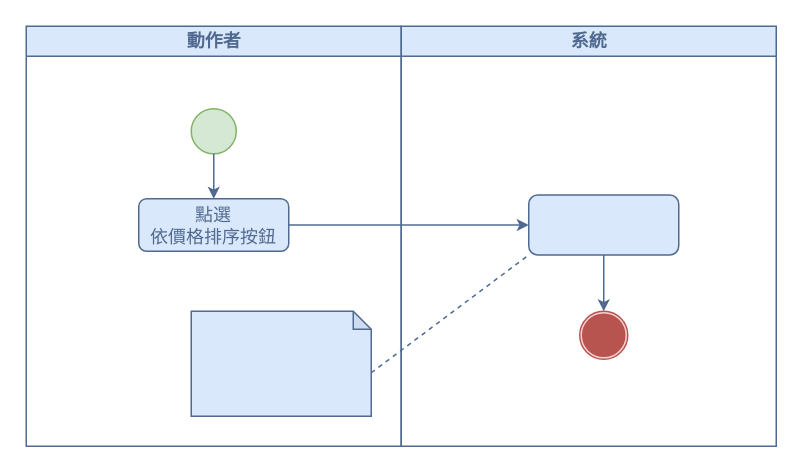
This 803x473 diagram has some shape labels left out. Here are the shapes that lost their labels. From the top down, the centre of each, then its label:
the point at 603,224: 將商品 依價格排序
the point at 280,363: 依價格由低至高排序，若再次點選可切換成由高至低排序。
